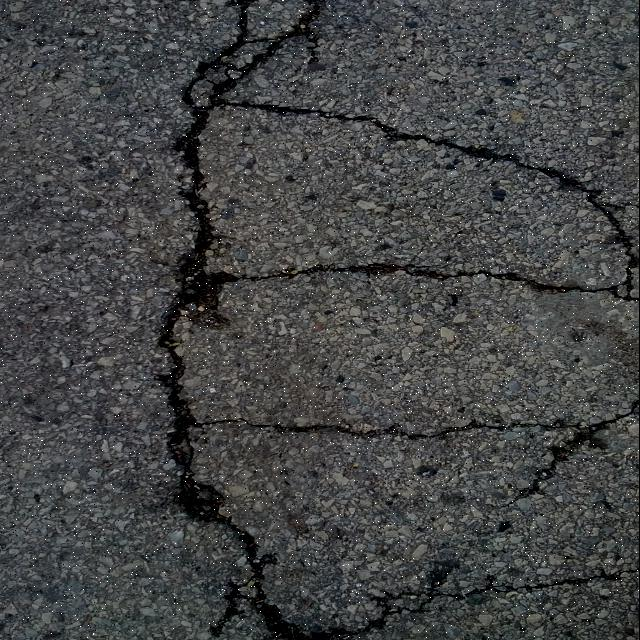Crack: (159, 0, 640, 640)
